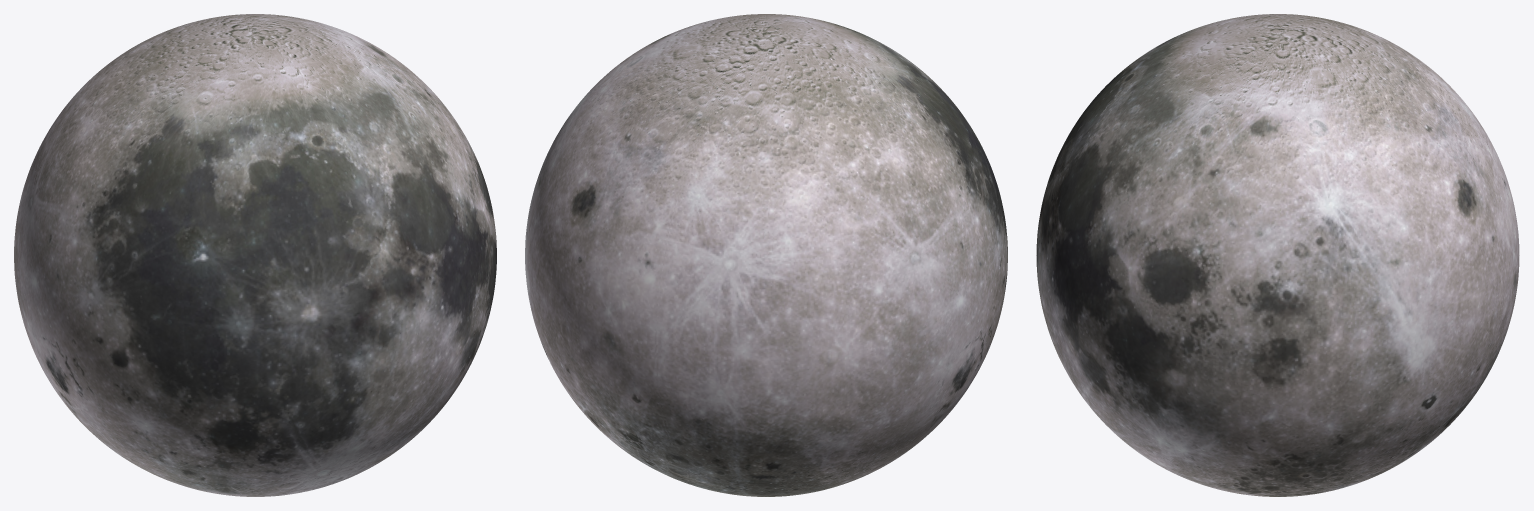
The model's file is the_moon.glb.
3 renders of one model, left to right at view 1: azimuth 30°, elevation 25°; view 2: azimuth 150°, elevation 25°; view 3: azimuth 270°, elevation 25°, orthographic.
Visible parts, largest first — view 1: Object_2; view 2: Object_2; view 3: Object_2.
Boxes of the visible parts, x1=… form: Object_2: x1=14, y1=14, x2=496, y2=496; Object_2: x1=525, y1=14, x2=1007, y2=496; Object_2: x1=1036, y1=14, x2=1519, y2=496.
Bounding box in the file's own units: 2 × 2 × 2.
1 material, 1 textured.
